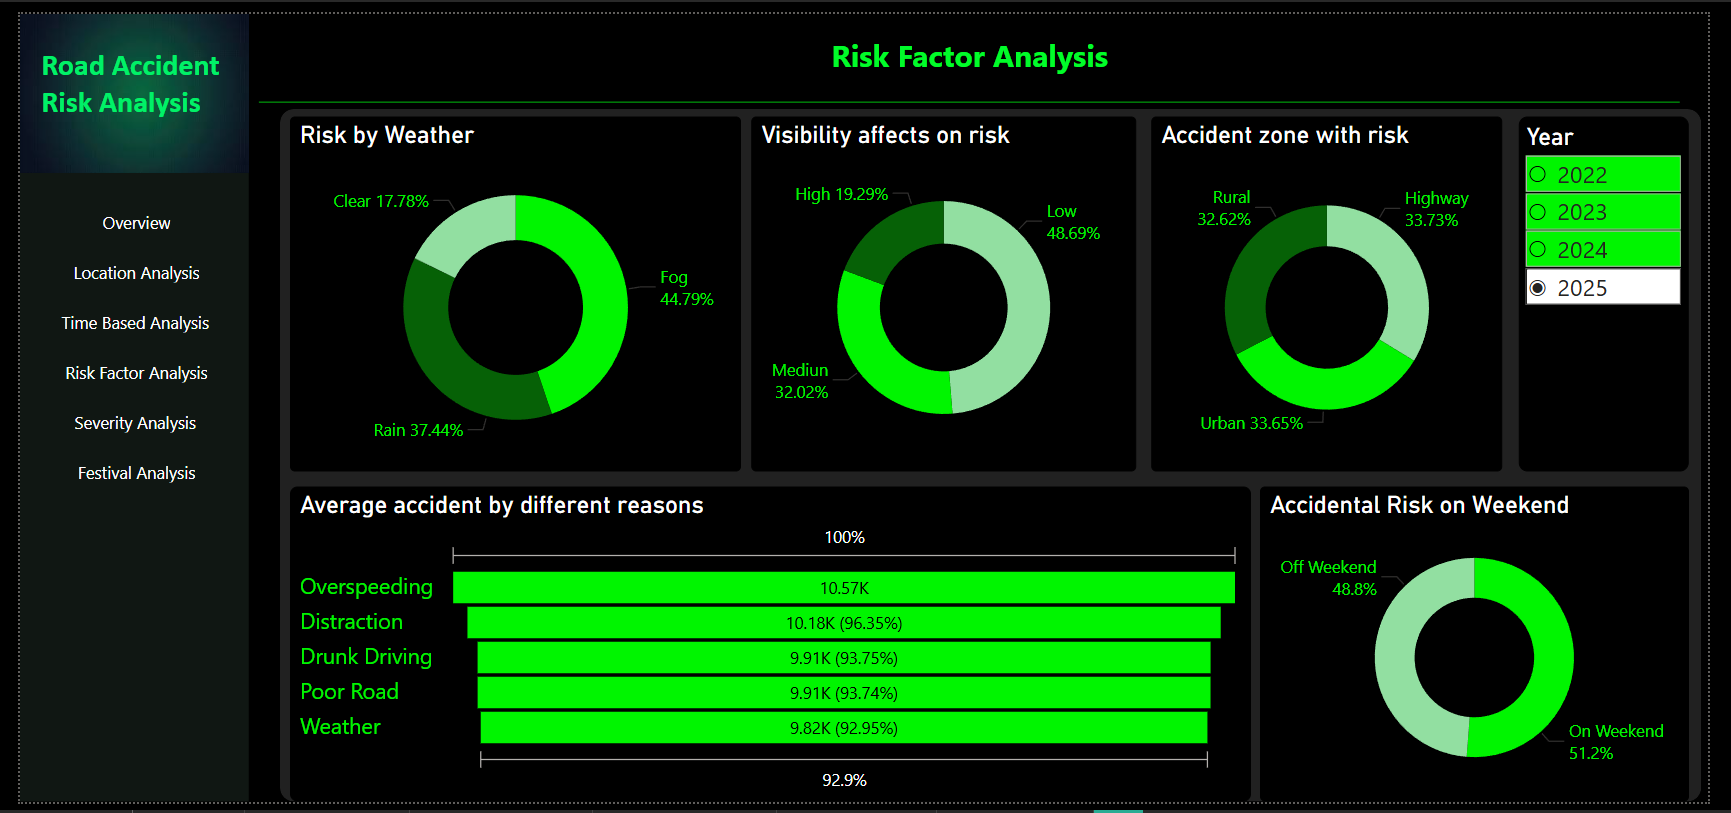

Layout of this report page (visuals, bound fields, positions):
{"tool":"powerbi","page":{"name":"Risk Factor Analysis","canvas":[1350,630],"ordinal":3},"visuals":[{"type":"shape","box":[0,0,183,630],"z":0},{"type":"image","box":[0,0,183,127],"z":1000},{"type":"textbox","box":[12,21,160,85],"z":2000},{"type":"actionButton","box":[13,146,160,40],"z":3000},{"type":"actionButton","box":[13,186,160,40],"z":4000},{"type":"actionButton","box":[12,226,160,40],"z":5000},{"type":"actionButton","box":[13,266,160,40],"z":6000},{"type":"actionButton","box":[12,306,160,40],"z":7000},{"type":"actionButton","box":[13,346,160,40],"z":8000},{"type":"shape","box":[191,65,1137,11],"z":9000},{"type":"textbox","box":[636,12,247,52],"z":10000},{"type":"shape","box":[208,76,1137,554],"z":11000},{"type":"donutChart","title":"Risk by Weather","fields":{"Category":["public accidents.Weather"],"Y":["Avg(public accidents.risk_score)"]},"box":[216,82,361,284],"z":12000},{"type":"donutChart","title":"Visibility affects on risk","fields":{"Y":["Avg(public accidents.risk_score)"],"Category":["public accidents.visibility"]},"box":[585,82,308,284],"z":13000},{"type":"funnel","title":"Average accident by different reasons","fields":{"Category":["public accidents.cause"],"Y":["Avg(public accidents.accident_id)"]},"box":[216,378,769,252],"z":14000},{"type":"donutChart","title":"Accidental Risk on Weekend","fields":{"Category":["public accidents.Weekend Status"],"Y":["Avg(public accidents.risk_score)"]},"box":[992,378,343,252],"z":15000},{"type":"donutChart","title":"Accident zone with risk","fields":{"Category":["public accidents.road_type"],"Y":["Avg(public accidents.risk_score)"]},"box":[905,82,281,284],"z":16000},{"type":"listSlicer","fields":{"Values":["public accidents.Year"]},"box":[1199,82,136,284],"z":17000}]}

Visuals, with their boxes in screenshot pixels (x1, y1, x2, y2), scaled from the page's 1350x630 canvas onto the 1731x813 screenshot:
shape: [0, 0, 235, 812]
image: [0, 0, 235, 164]
textbox: [15, 27, 221, 137]
actionButton: [17, 188, 222, 240]
actionButton: [17, 240, 222, 292]
actionButton: [15, 292, 221, 343]
actionButton: [17, 343, 222, 395]
actionButton: [15, 395, 221, 447]
actionButton: [17, 447, 222, 498]
shape: [245, 84, 1703, 98]
textbox: [815, 15, 1132, 83]
shape: [267, 98, 1725, 812]
"Risk by Weather" donutChart: [277, 106, 740, 472]
"Visibility affects on risk" donutChart: [750, 106, 1145, 472]
"Average accident by different reasons" funnel: [277, 488, 1263, 812]
"Accidental Risk on Weekend" donutChart: [1272, 488, 1712, 812]
"Accident zone with risk" donutChart: [1160, 106, 1521, 472]
listSlicer - public accidents.Year: [1537, 106, 1712, 472]
